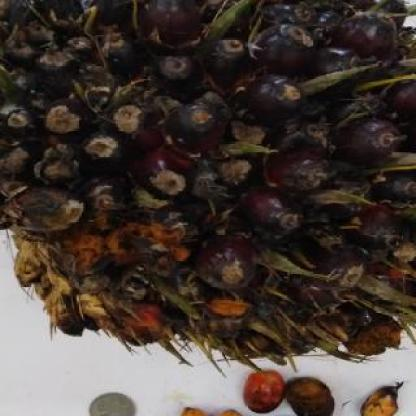Unripe: (0, 0, 416, 398)
